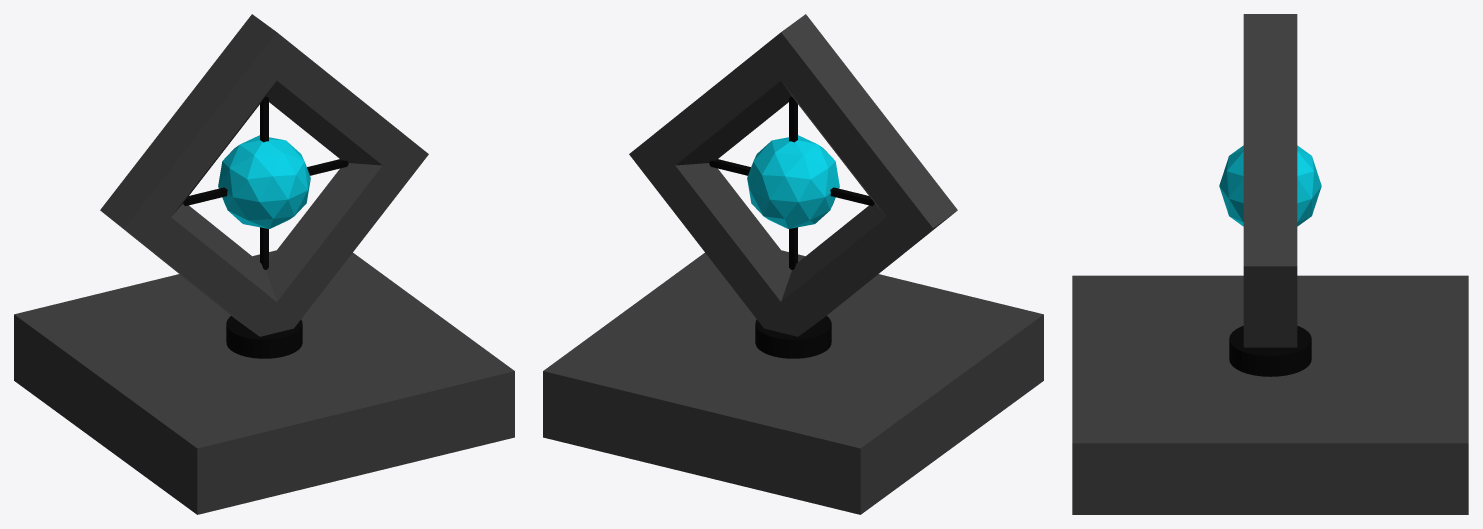
Rendered from Laser Tower.fbx.
3 renders of one model, left to right at view 1: azimuth 30°, elevation 25°; view 2: azimuth 150°, elevation 25°; view 3: azimuth 270°, elevation 25°, orthographic. The views are drawn at different scales.
Parts seen in each view (by area): view 1: Tower Base, Cylinder, Icosphere; view 2: Tower Base, Cylinder, Icosphere; view 3: Tower Base, Cylinder, Icosphere.
Boxes of the visible parts, x1=… form: Tower Base: x1=14, y1=250, x2=514, y2=514; Cylinder: x1=100, y1=14, x2=428, y2=358; Icosphere: x1=218, y1=135, x2=310, y2=228; Tower Base: x1=543, y1=250, x2=1043, y2=514; Cylinder: x1=629, y1=14, x2=957, y2=358; Icosphere: x1=747, y1=135, x2=839, y2=228; Tower Base: x1=1072, y1=275, x2=1468, y2=514; Cylinder: x1=1229, y1=14, x2=1311, y2=376; Icosphere: x1=1219, y1=145, x2=1321, y2=226.
Size of the model in its own units: 100 by 116 by 100.
